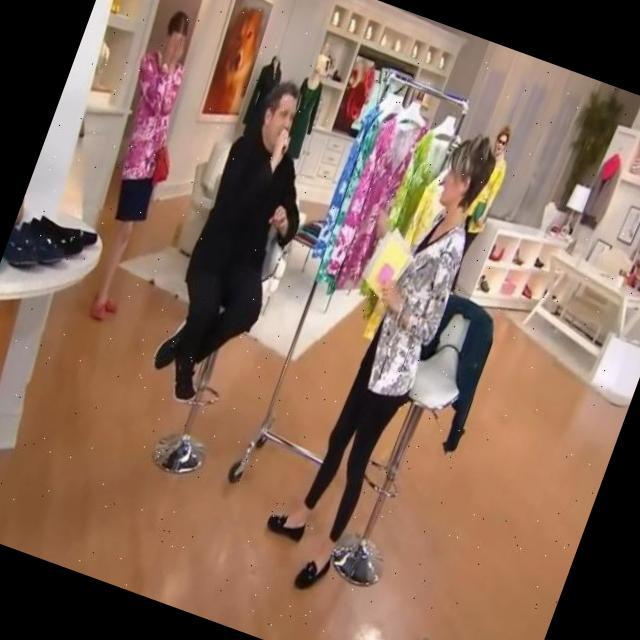person: (252, 109, 508, 602), (142, 69, 340, 416), (58, 7, 216, 324)
